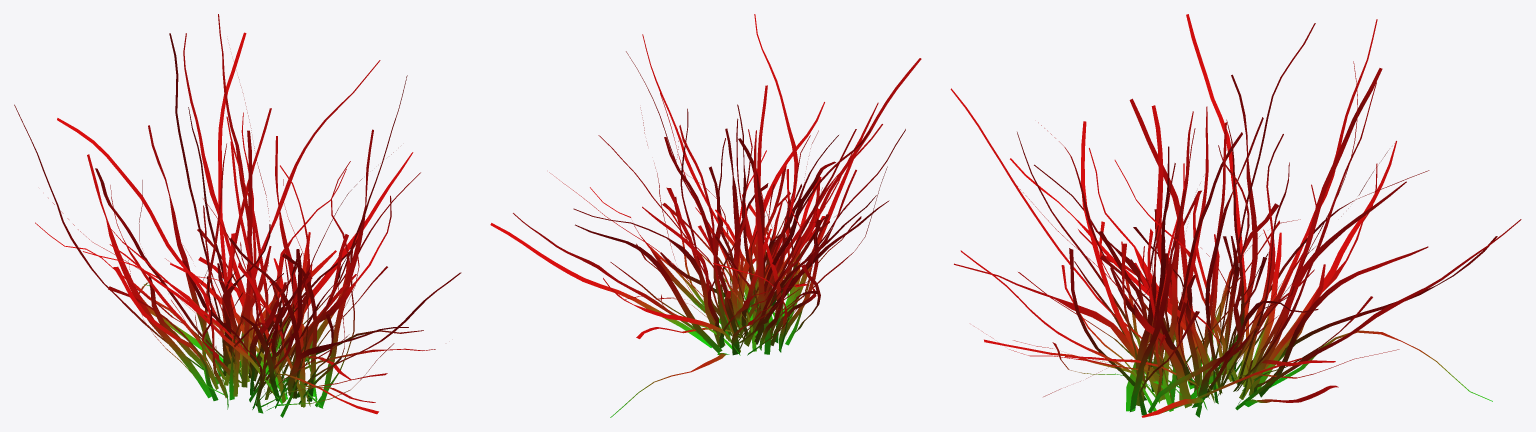
Rendered from Var3_LOD0.fbx.
The picture shows the model from 3 angles, left to right: view 1: azimuth 30°, elevation 25°; view 2: azimuth 150°, elevation 25°; view 3: azimuth 270°, elevation 25°; orthographic projection. The views are drawn at different scales.
Visible parts, largest first — view 1: _6fsx_Var3_LOD0; view 2: _6fsx_Var3_LOD0; view 3: _6fsx_Var3_LOD0.
Boxes of the visible parts, left/top/right/bottom form: _6fsx_Var3_LOD0: left=14, top=14, right=461, bottom=417; _6fsx_Var3_LOD0: left=490, top=14, right=921, bottom=417; _6fsx_Var3_LOD0: left=950, top=14, right=1521, bottom=417.
Bounding box in the file's own units: 35.88 × 27.21 × 41.47.
